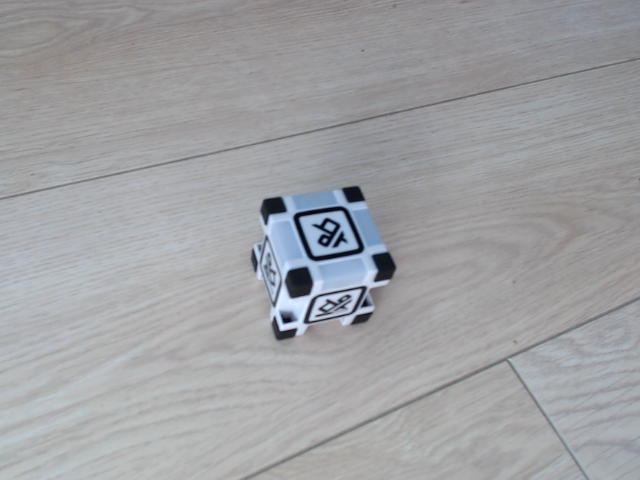block: (250, 182, 400, 343)
